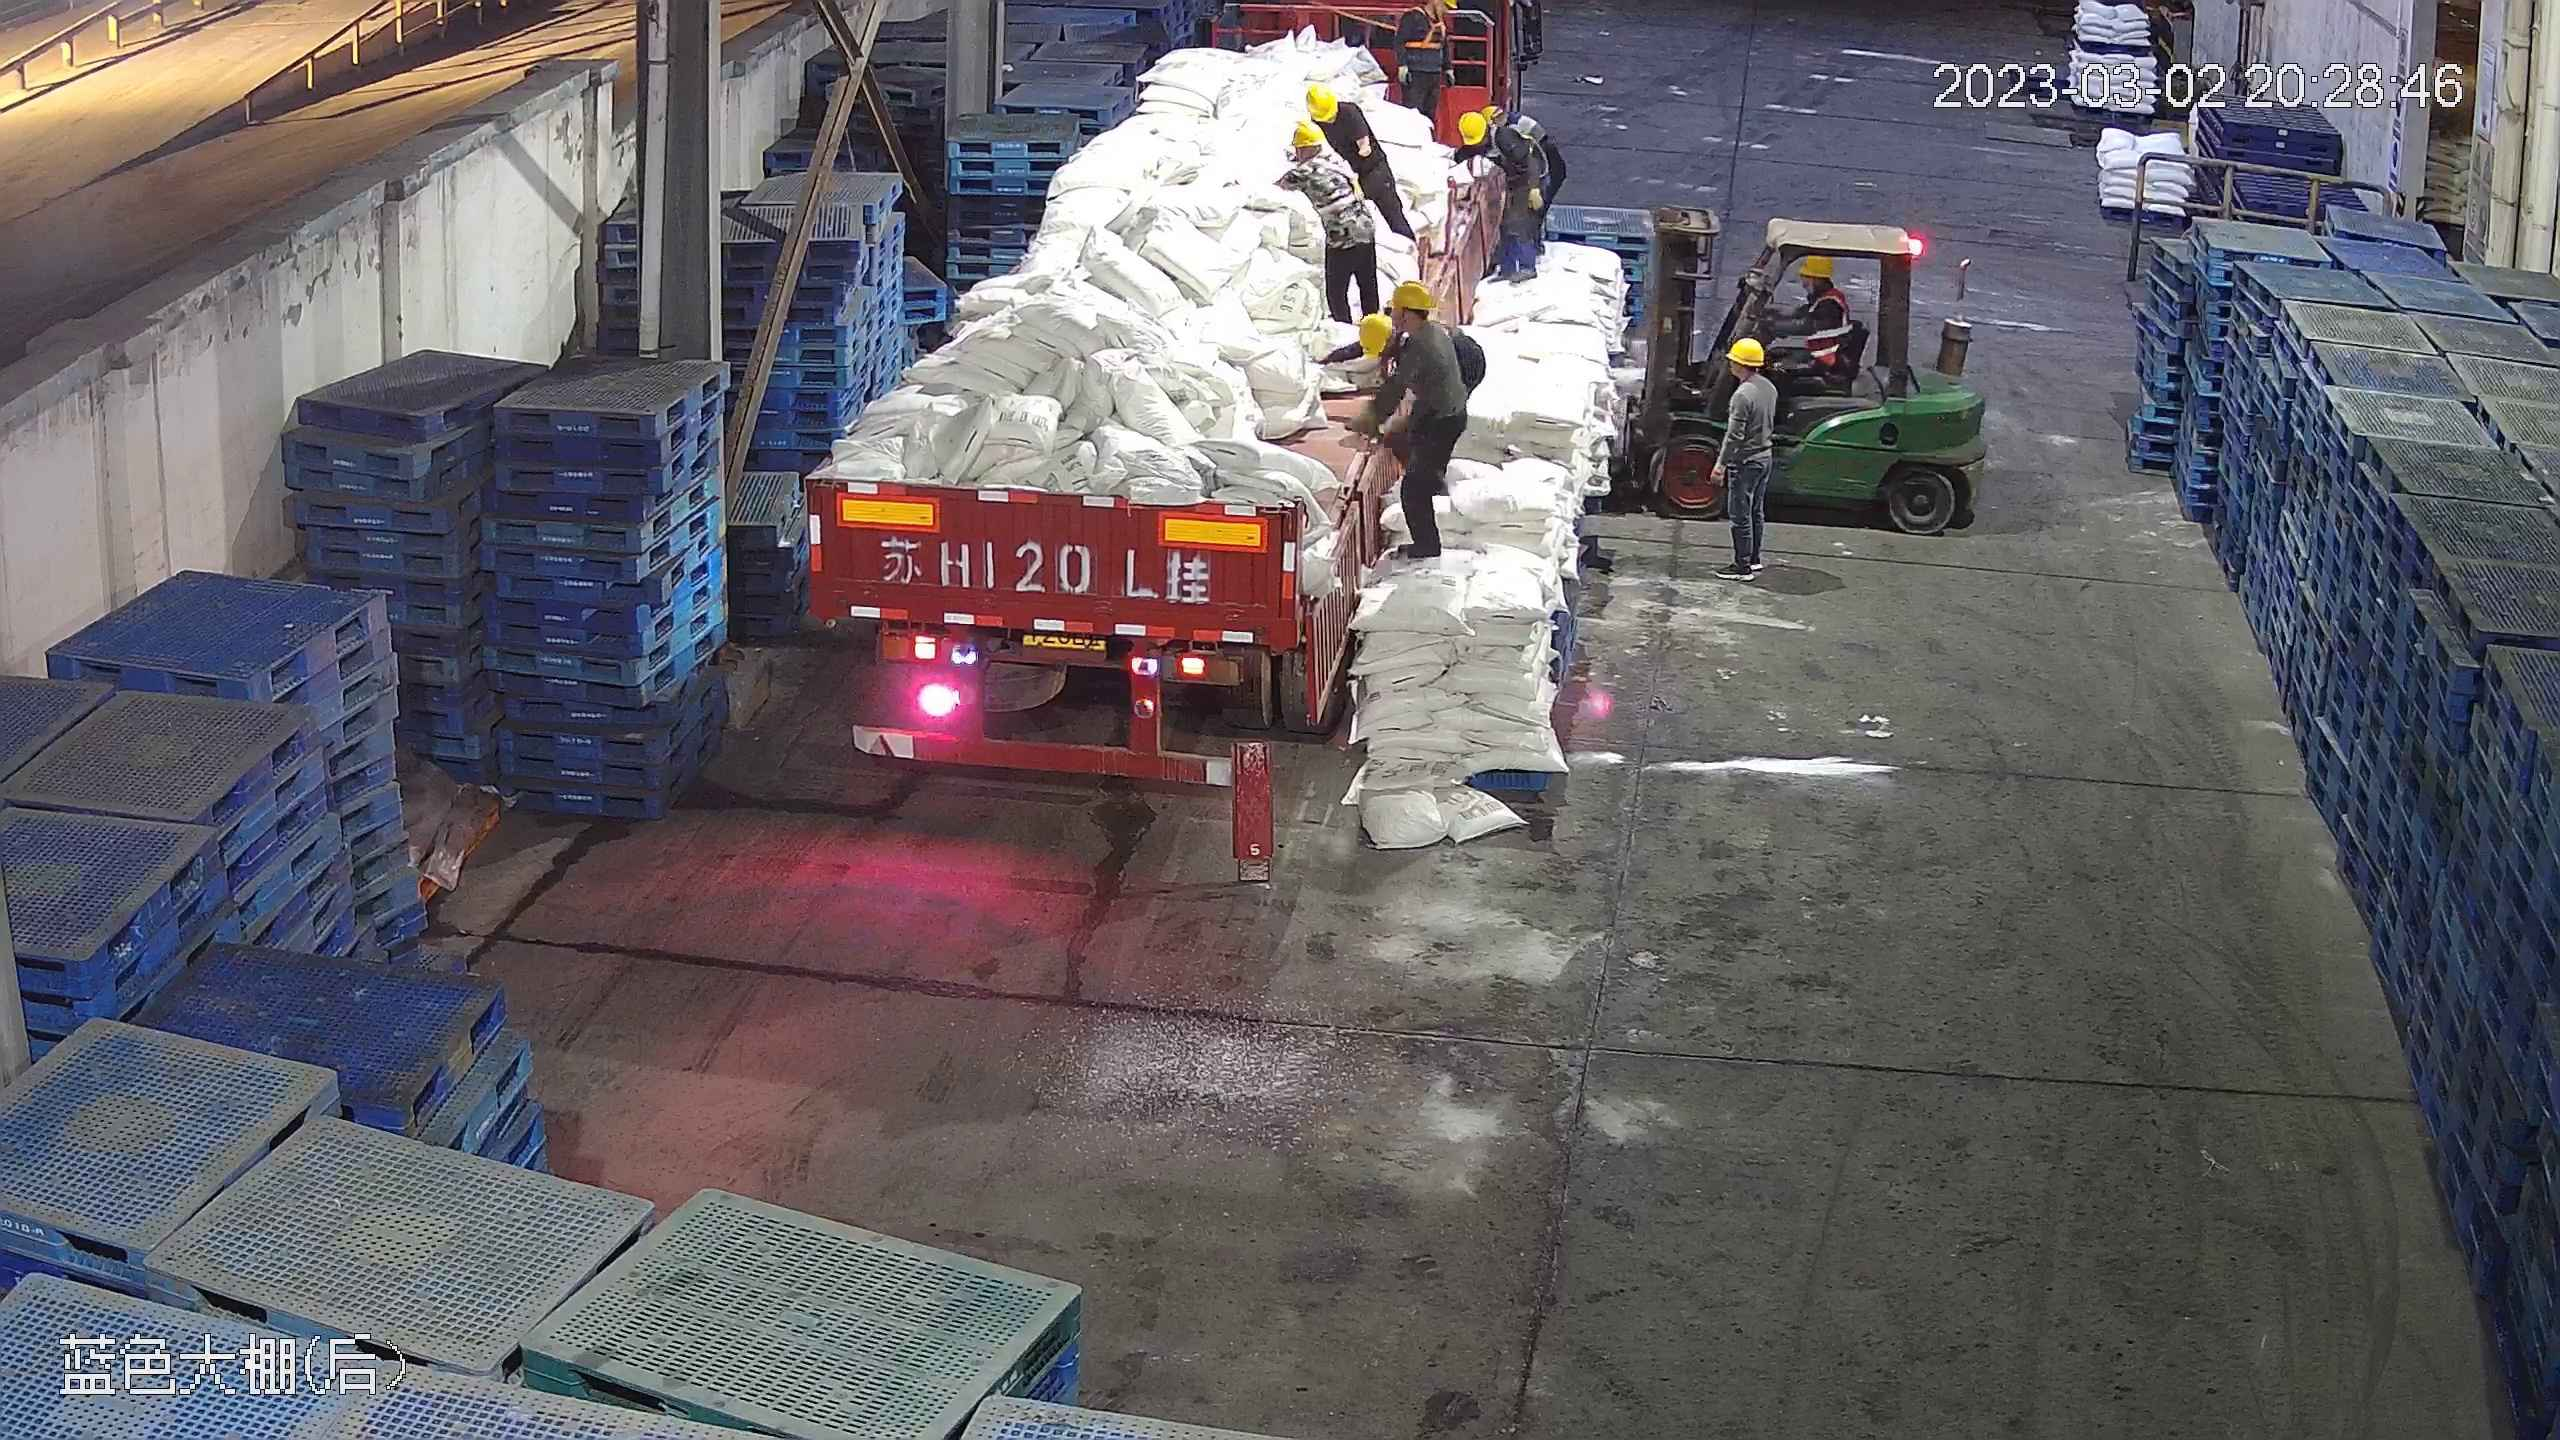belt: (1472, 112, 1541, 174), (1312, 153, 1371, 212), (1406, 1, 1457, 51)
head: (1382, 279, 1459, 375), (1288, 104, 1362, 176), (1718, 339, 1779, 417), (1787, 252, 1852, 324), (1460, 107, 1536, 167), (1304, 83, 1374, 143)
helmet: (1389, 277, 1437, 316), (1357, 310, 1391, 358), (1302, 85, 1338, 124), (1727, 337, 1767, 367), (1291, 120, 1327, 151), (1458, 110, 1489, 146), (1798, 253, 1833, 277)
people: (1338, 296, 1472, 564), (1283, 107, 1413, 350), (1449, 100, 1564, 289), (1711, 338, 1782, 576), (1298, 84, 1398, 250), (1770, 250, 1853, 376), (1395, 1, 1454, 114)
truck: (796, 6, 1514, 805)
